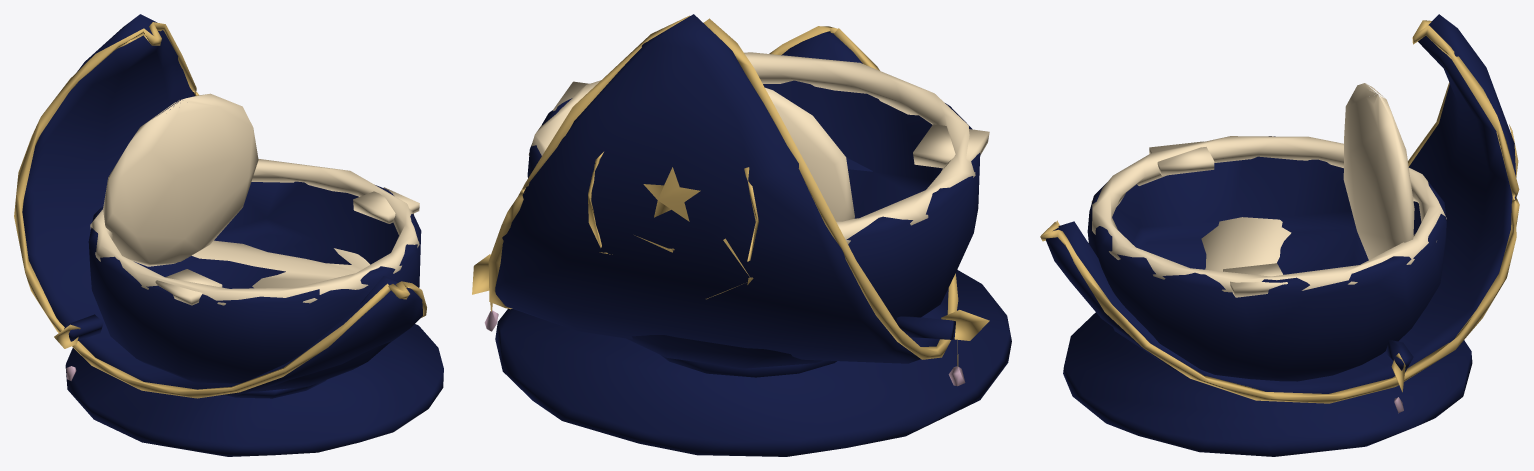
File: kart.body.reverie.lod1.glb
The picture shows the model from 3 angles, left to right: view 1: azimuth 30°, elevation 25°; view 2: azimuth 150°, elevation 25°; view 3: azimuth 270°, elevation 25°; orthographic projection. The views are drawn at different scales.
Visible parts, largest first — view 1: emi_vehicle_reverie; view 2: emi_vehicle_reverie; view 3: emi_vehicle_reverie.
Part boxes in pixels (x1,y1,x2,y2): emi_vehicle_reverie: (14, 14, 443, 456); emi_vehicle_reverie: (472, 14, 1011, 456); emi_vehicle_reverie: (1040, 14, 1519, 456).
Bounding box in the file's own units: 0.4364 × 0.375 × 0.4781.
